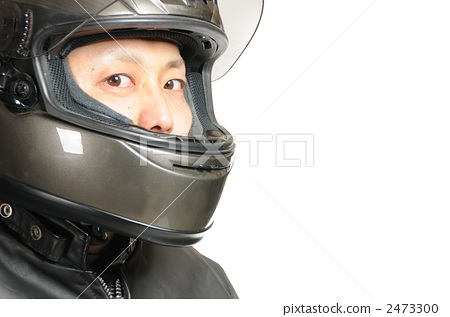helmet: (6, 1, 257, 244)
